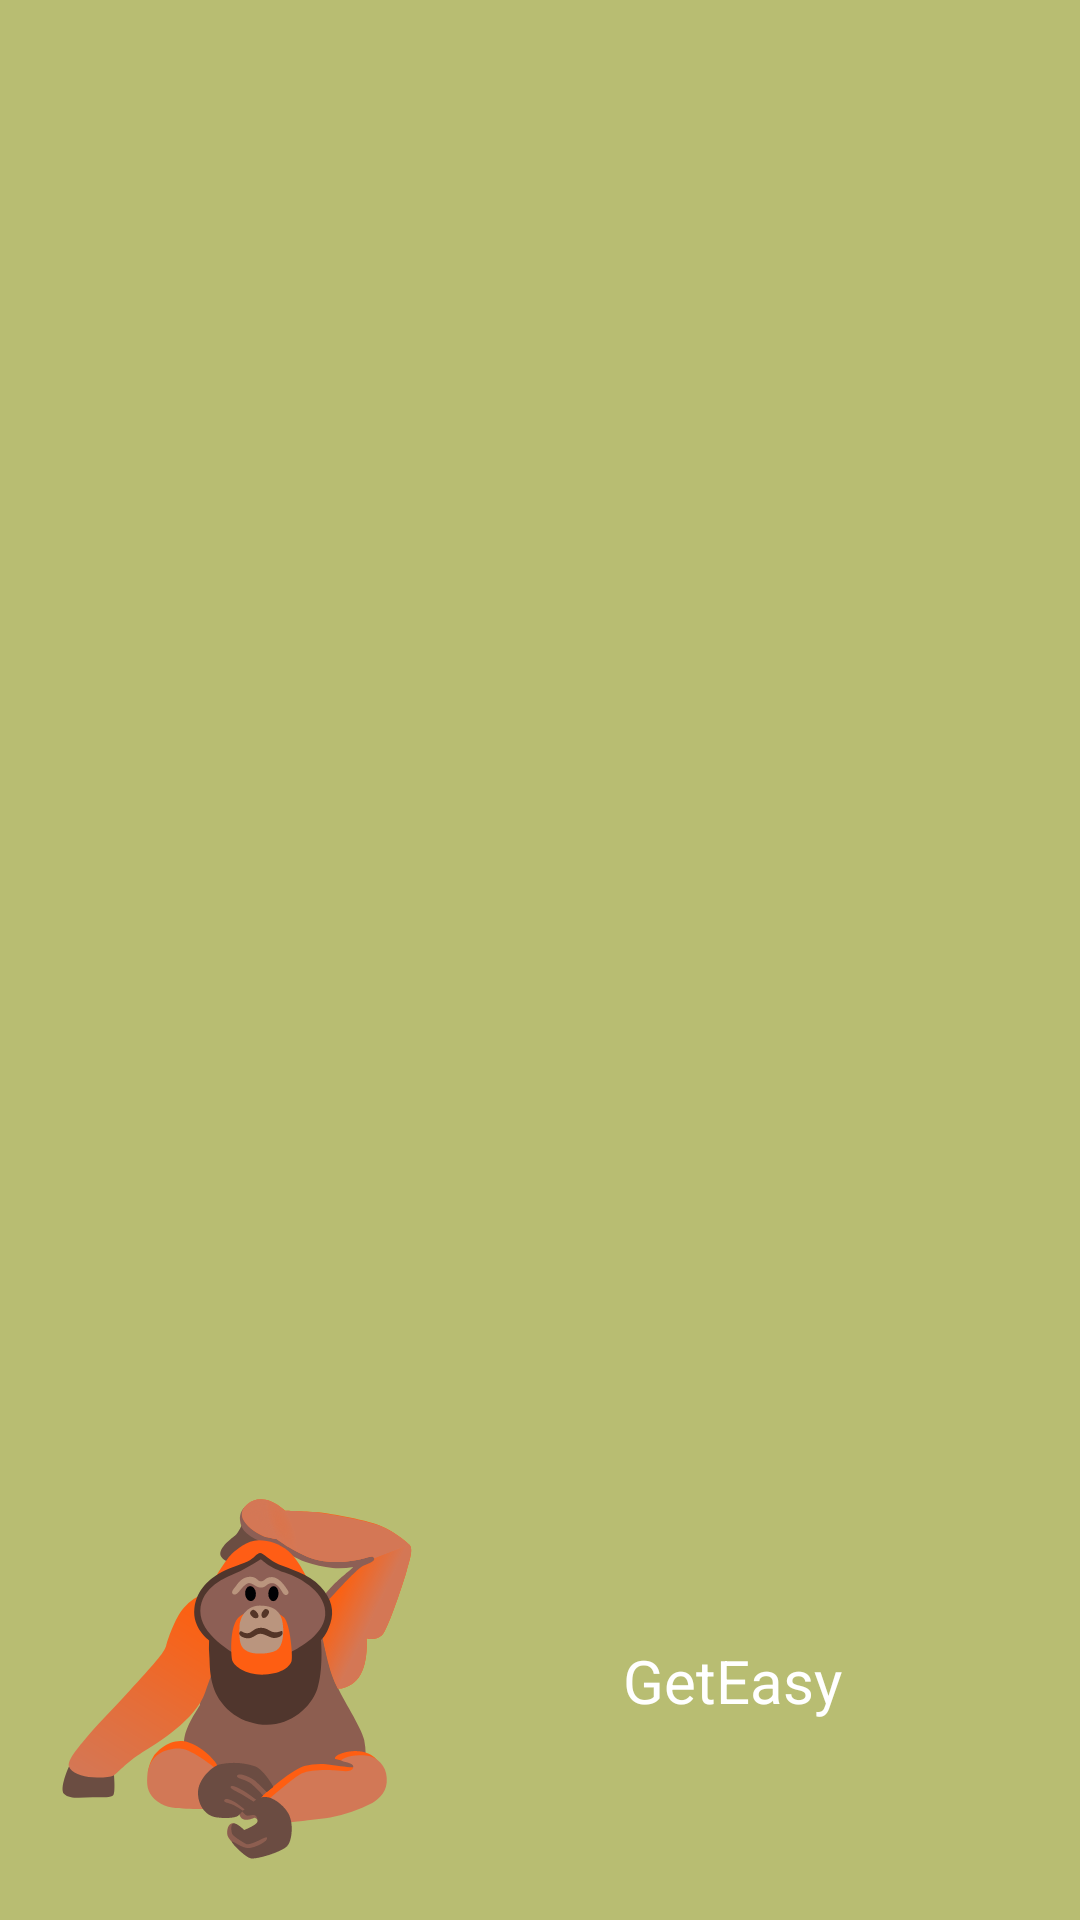

Screen size 1080x1920. Icon name, then its center in pixels as [x,y]:
orangutant: [236,1679]
